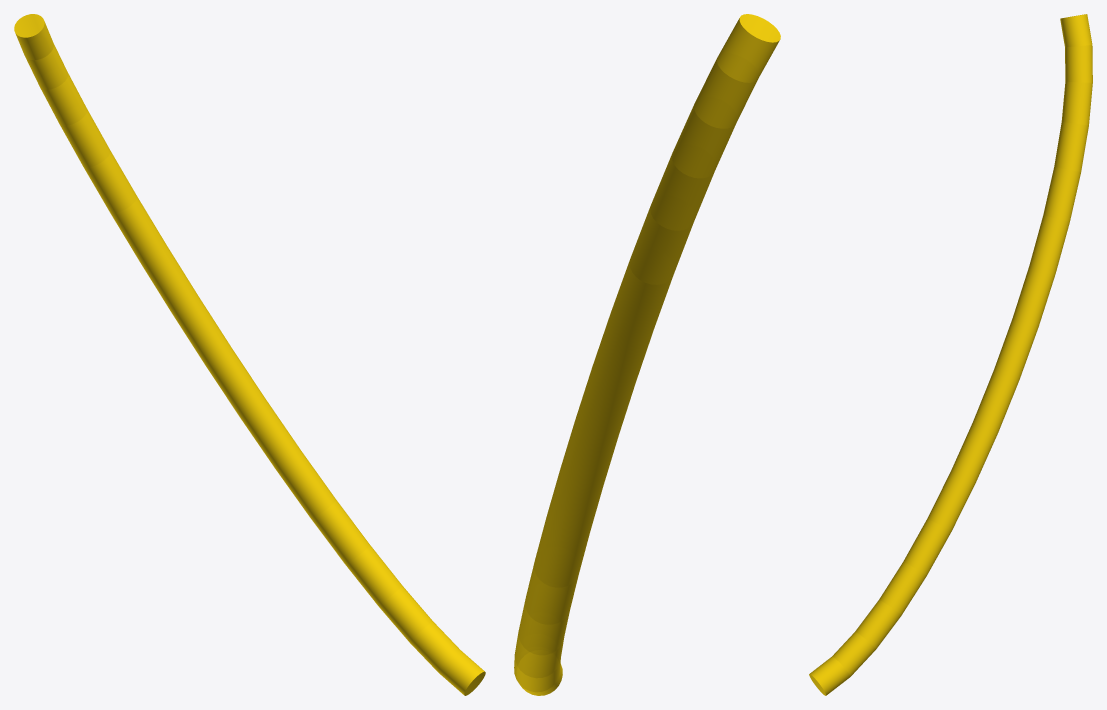
File: Event_421115418_track_125.fbx
The picture shows the model from 3 angles, left to right: view 1: azimuth 30°, elevation 25°; view 2: azimuth 150°, elevation 25°; view 3: azimuth 270°, elevation 25°; orthographic projection. The views are drawn at different scales.
Visible parts, largest first — view 1: Model; view 2: Model; view 3: Model.
Part boxes in pixels (left/top/right/bottom): Model: left=14, top=14, right=485, bottom=695; Model: left=514, top=14, right=780, bottom=695; Model: left=809, top=14, right=1092, bottom=695.
Bounding box in the file's own units: 0.4704 × 0.8921 × 0.4109.
